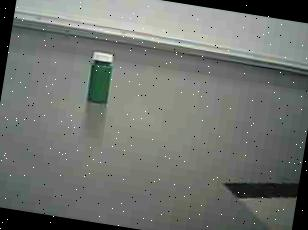Bottle C: (77, 46, 127, 112)
